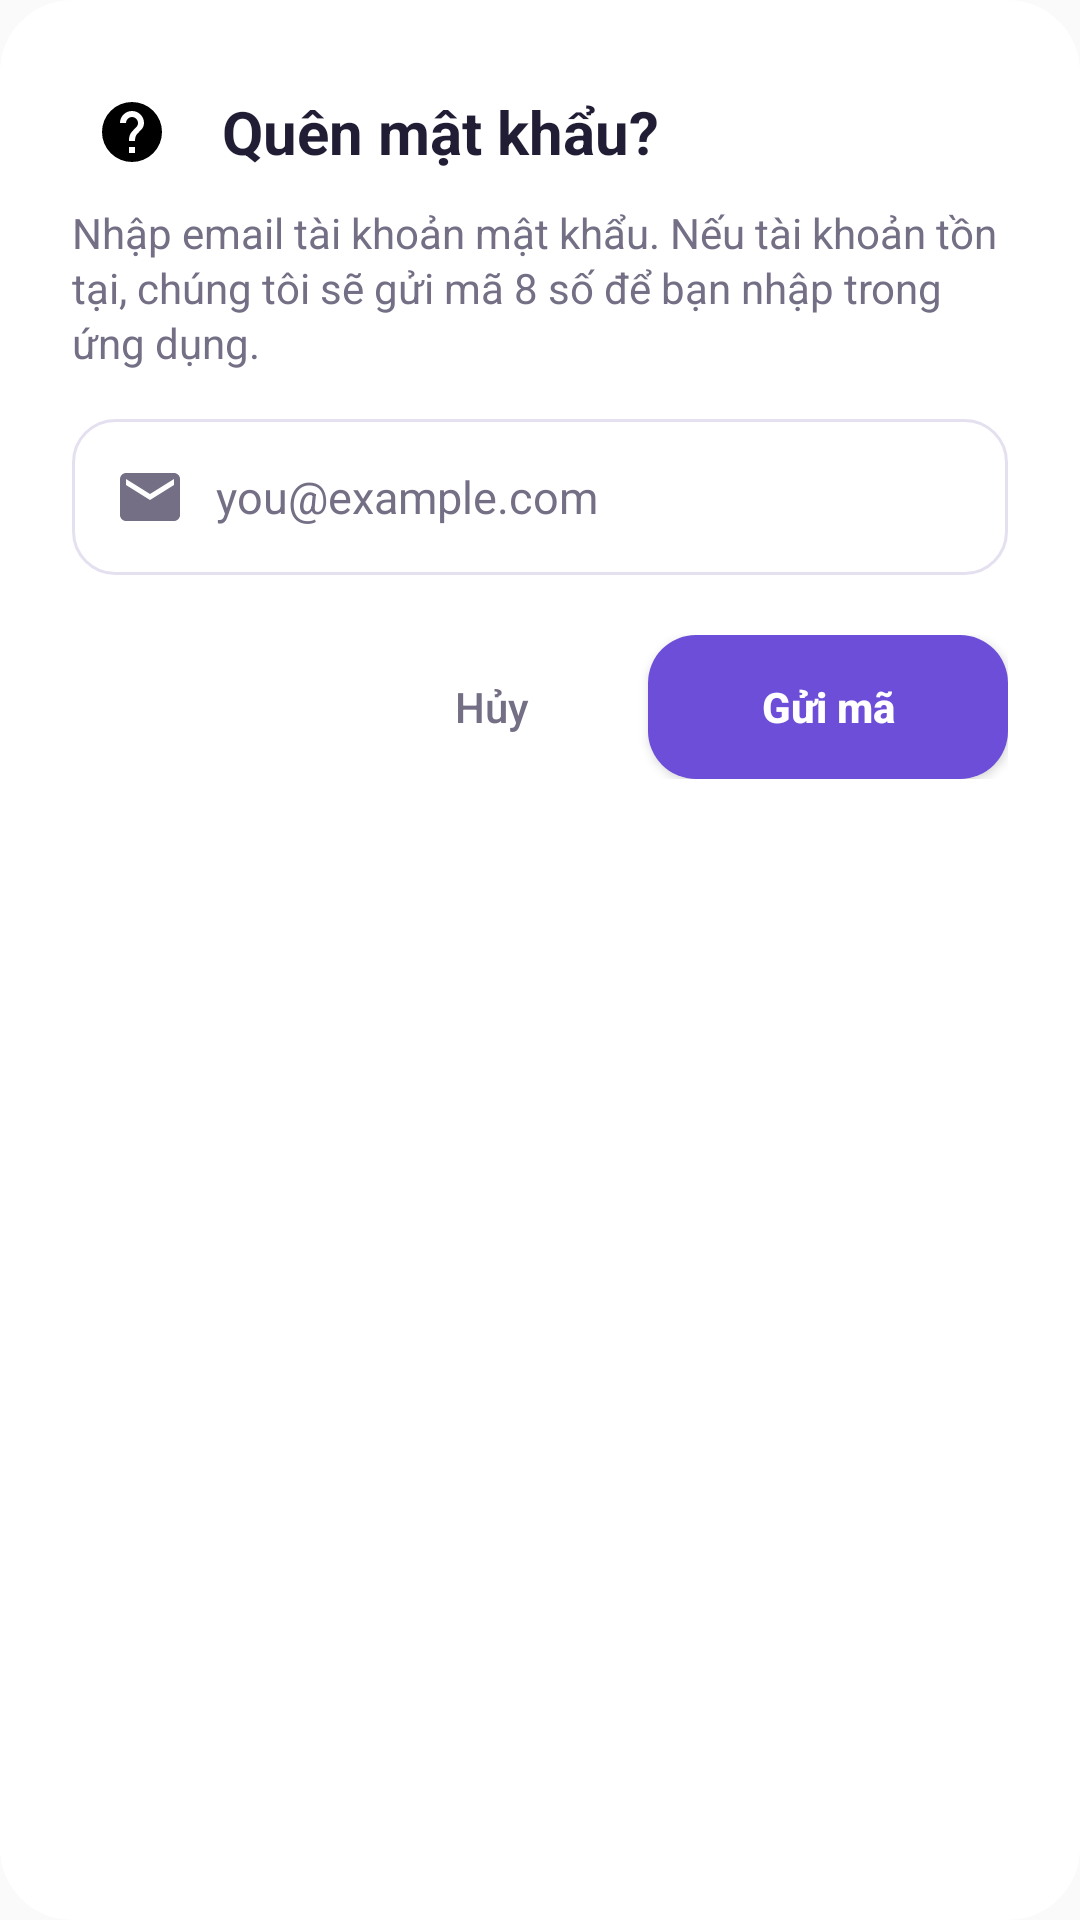

Icon bounding boxes for this 1080px×1920px phone screenshot, format [x1, y1, x2, y2]:
help: [102, 102, 162, 162]
